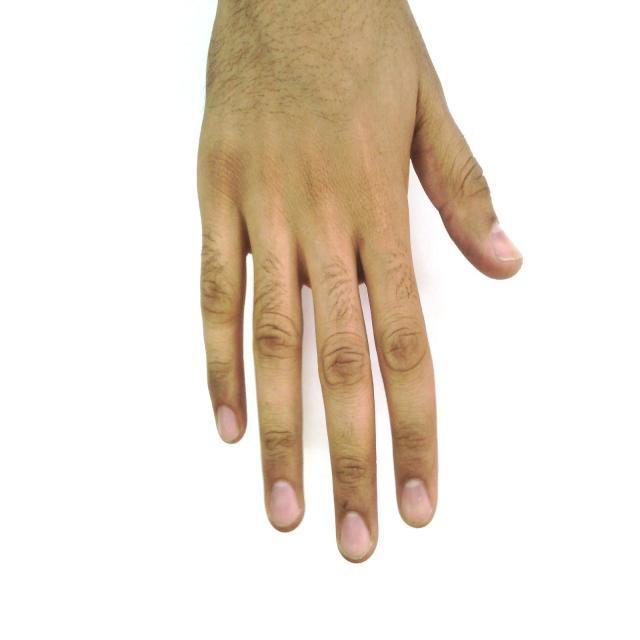Fingernail: (401, 478, 432, 526), (341, 512, 371, 558), (270, 481, 299, 526), (487, 226, 522, 261), (218, 406, 239, 441)
